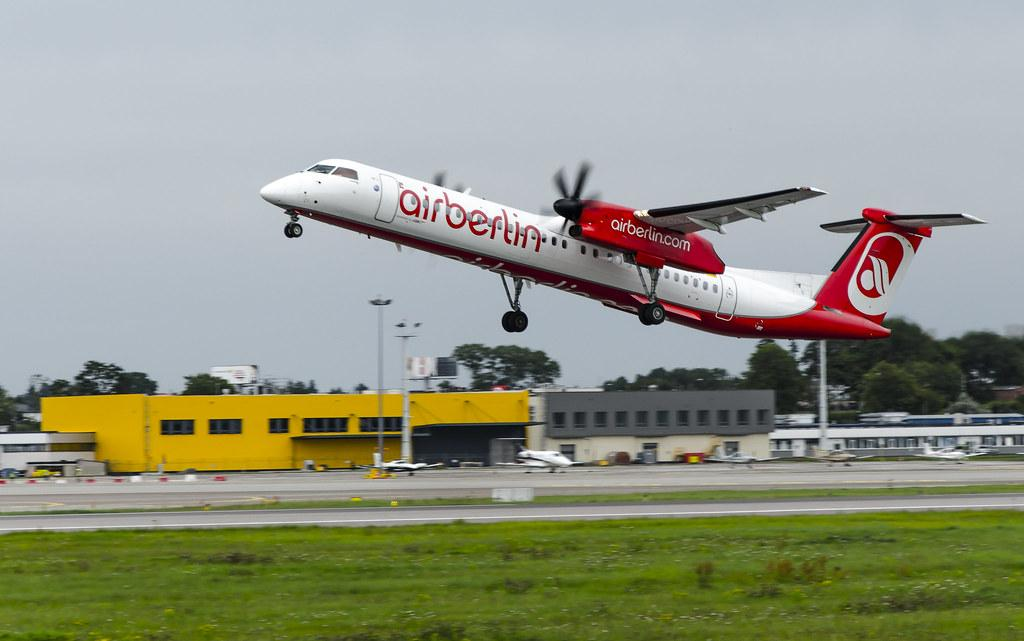plane: (259, 157, 989, 341), (514, 447, 606, 474)
